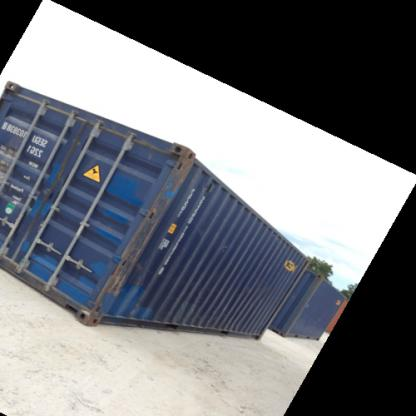Damage: (140, 156, 194, 224), (106, 215, 148, 295)
